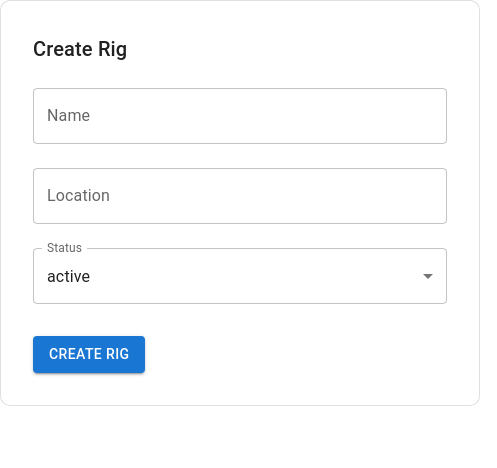
Scenario: RigForm › shows validation errors when submitted empty
Clear the field labelled "Name" at (240, 116), box [33,88,447,144]
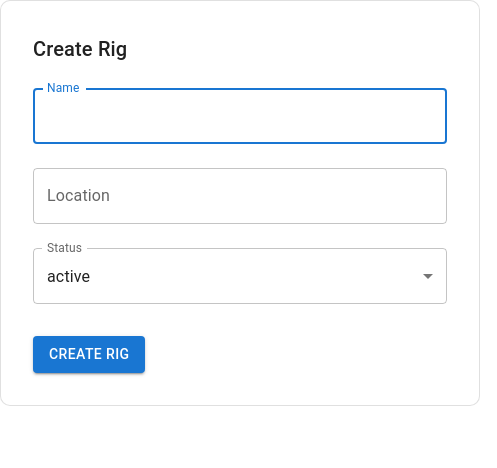
Click the button "Create Rig" at (89, 354), box [33,336,145,372]
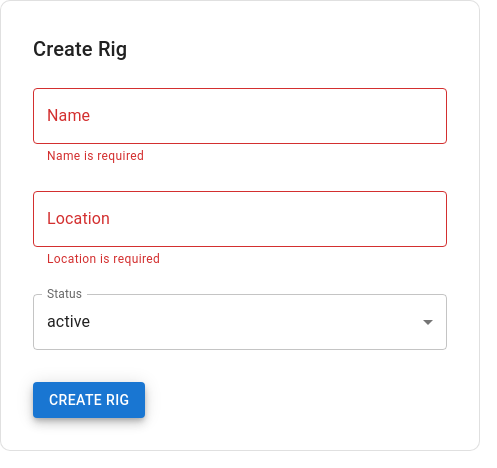
Result: the text "Name is required" is shown at [47,149,144,163]
Result: the text "Location is required" is shown at [47,252,160,266]
